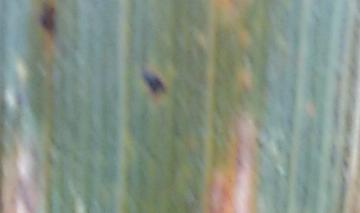tarspot: (40, 4, 57, 37), (143, 72, 166, 94)
